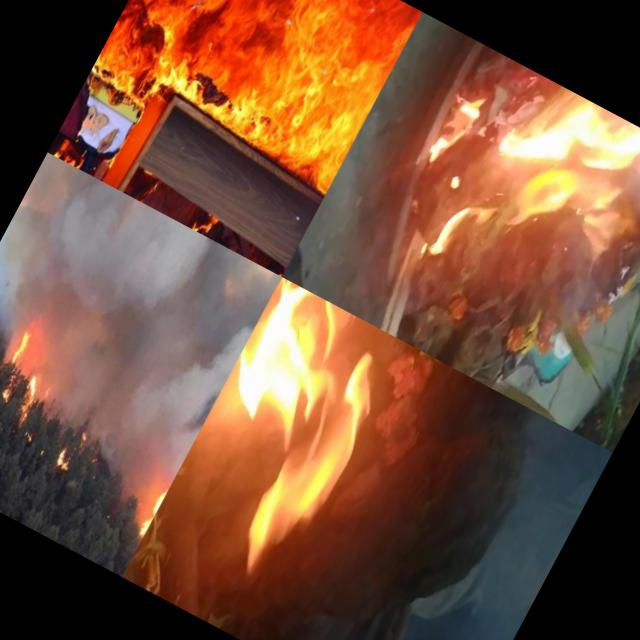fire: (85, 0, 421, 203), (416, 172, 589, 390), (277, 499, 516, 640), (498, 236, 640, 440), (0, 315, 73, 425), (584, 128, 640, 258), (120, 480, 169, 552), (49, 414, 98, 478)
smoke: (0, 152, 280, 411), (484, 70, 639, 216), (89, 370, 209, 488), (45, 340, 129, 426)
